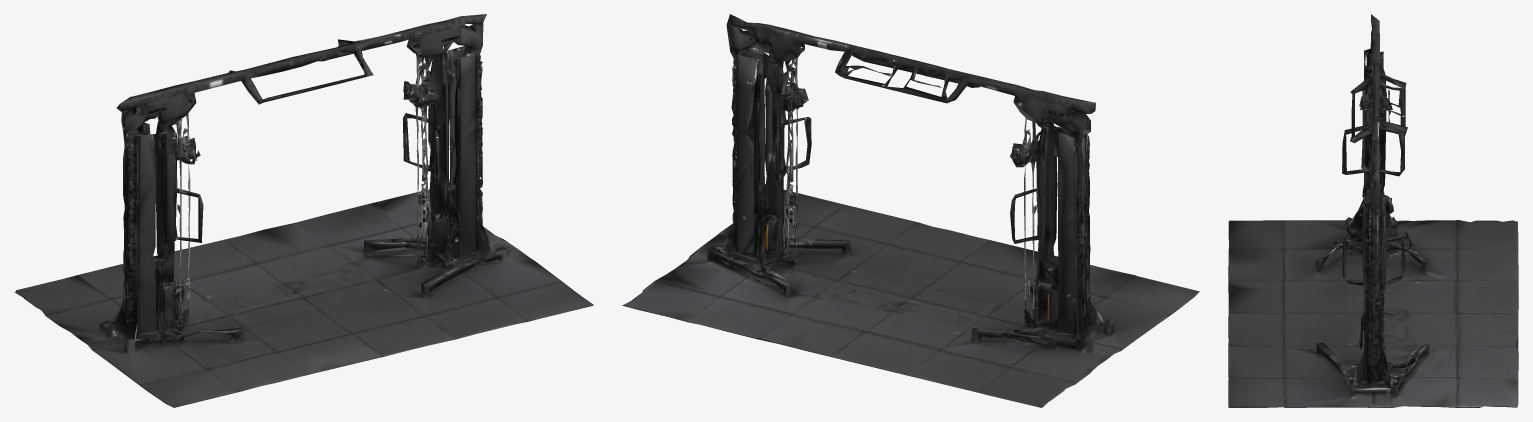
Rendered from Cable_Machine_Station_0602102043_texture.glb.
The picture shows the model from 3 angles, left to right: view 1: azimuth 30°, elevation 25°; view 2: azimuth 150°, elevation 25°; view 3: azimuth 270°, elevation 25°; orthographic projection. The views are drawn at different scales.
Size of the model in its own units: 2 by 1.12 by 1.31.
Materials: 1 (1 with a texture image).
